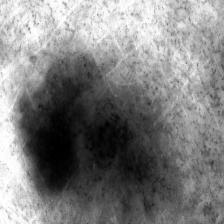Benign Marking or Mole: (28, 64, 171, 211)
